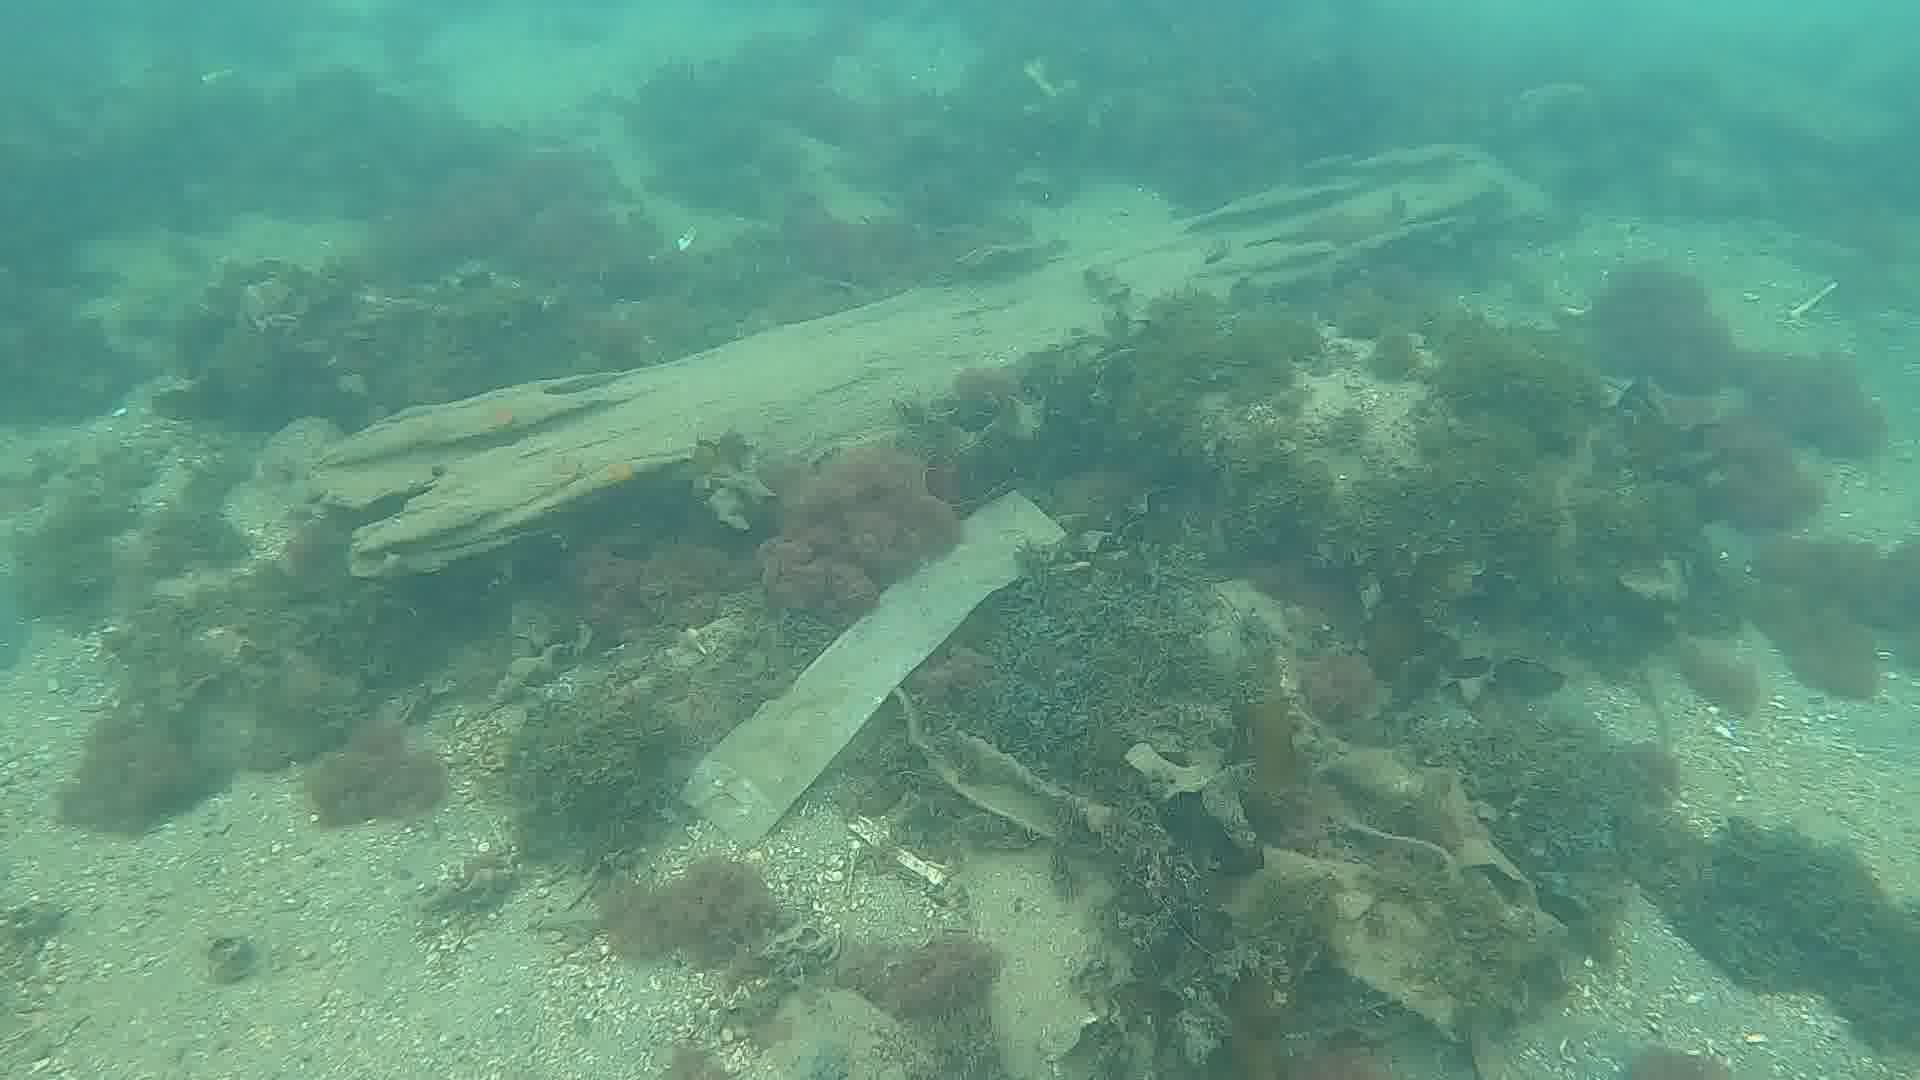wood: (302, 141, 1557, 575)
